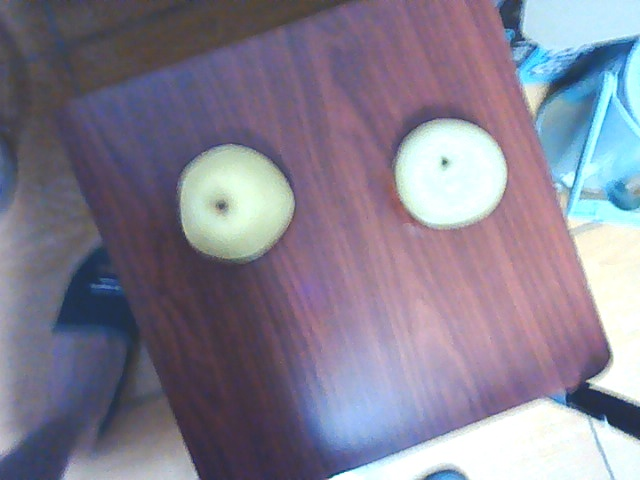pear: (176, 145, 299, 263), (395, 121, 511, 228)
